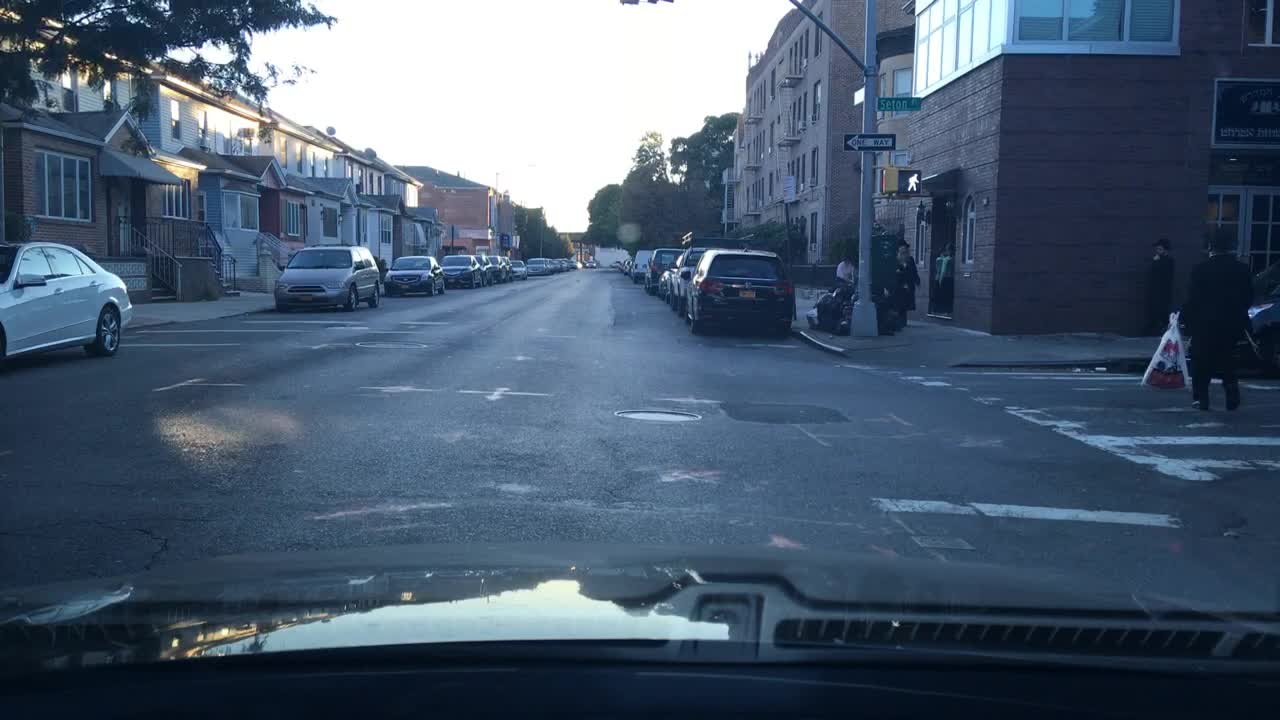car: (0, 239, 134, 365), (1181, 262, 1279, 380), (679, 244, 797, 339), (272, 242, 384, 313), (667, 232, 754, 316), (382, 254, 447, 295), (640, 247, 683, 294), (437, 254, 483, 289), (655, 253, 680, 302), (626, 248, 656, 283), (471, 253, 494, 287), (485, 253, 510, 284), (524, 257, 550, 277), (509, 259, 528, 281), (555, 257, 571, 273), (500, 255, 512, 276), (620, 257, 630, 275), (568, 259, 583, 270), (549, 258, 560, 273), (584, 259, 597, 269), (627, 259, 634, 276), (611, 258, 621, 269)
person: (1176, 224, 1253, 412), (884, 237, 922, 334), (1144, 233, 1177, 336), (943, 243, 955, 316), (932, 249, 945, 315), (834, 256, 856, 284)
traffic light: (891, 168, 923, 195), (879, 167, 892, 193)
traffic sign: (841, 132, 897, 151), (874, 95, 921, 112), (851, 88, 864, 104)
